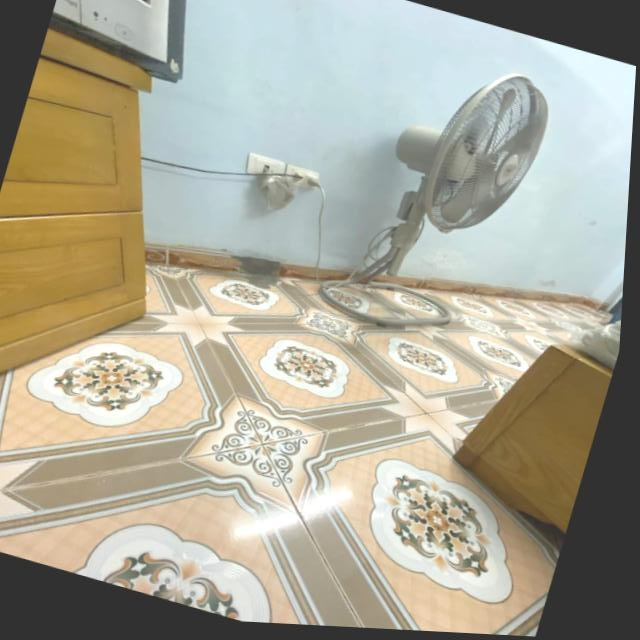outlet: (243, 152, 289, 184), (282, 162, 324, 192)
